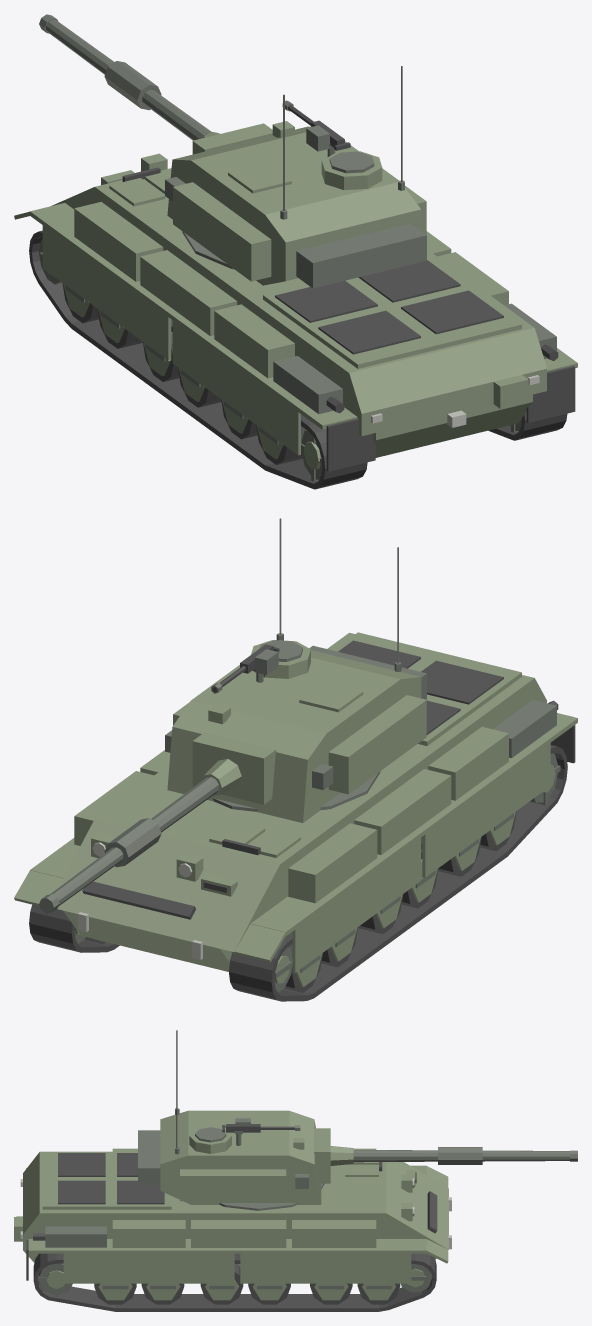
Rendered from tank.glb.
The picture shows the model from 3 angles, top to bottom: view 1: azimuth 30°, elevation 25°; view 2: azimuth 150°, elevation 25°; view 3: azimuth 270°, elevation 25°; orthographic projection. The views are drawn at different scales.
Parts seen in each view (by area): view 1: hull, turret, gun, mg_gun, wheel_L_5, wheel_L_2, wheel_L_1, wheel_L_3, wheel_L_6, wheel_L_4, wheel_L_0; view 2: hull, turret, gun, mg_gun, wheel_L_3, wheel_L_4, wheel_L_2, wheel_L_0, wheel_L_1, wheel_L_5; view 3: hull, turret, gun, wheel_R_3, wheel_R_0, wheel_R_4, wheel_R_5, wheel_R_2, wheel_R_1, wheel_R_6, mg_gun, wheel_R_7.
Boxes of the visible parts, bbox=[...] form: hull: bbox=[14, 153, 577, 489]; turret: bbox=[165, 66, 426, 288]; gun: bbox=[39, 14, 272, 154]; mg_gun: bbox=[282, 100, 350, 151]; wheel_L_5: bbox=[256, 425, 306, 464]; wheel_L_2: bbox=[143, 331, 179, 381]; wheel_L_1: bbox=[97, 309, 142, 348]; wheel_L_3: bbox=[178, 368, 221, 407]; wheel_L_6: bbox=[301, 430, 322, 481]; wheel_L_4: bbox=[221, 399, 257, 439]; wheel_L_0: bbox=[62, 283, 98, 323]; hull: bbox=[14, 632, 577, 1001]; turret: bbox=[165, 518, 426, 822]; gun: bbox=[39, 732, 276, 913]; mg_gun: bbox=[211, 644, 279, 693]; wheel_L_3: bbox=[401, 849, 438, 908]; wheel_L_4: bbox=[438, 837, 481, 876]; wheel_L_2: bbox=[358, 894, 403, 933]; wheel_L_0: bbox=[284, 944, 322, 992]; wheel_L_1: bbox=[321, 927, 357, 967]; wheel_L_5: bbox=[480, 811, 516, 851]; hull: bbox=[14, 1148, 451, 1311]; turret: bbox=[138, 1030, 321, 1204]; gun: bbox=[314, 1128, 577, 1183]; wheel_R_3: bbox=[200, 1264, 243, 1304]; wheel_R_0: bbox=[357, 1283, 400, 1304]; wheel_R_4: bbox=[141, 1283, 184, 1304]; wheel_R_5: bbox=[94, 1283, 136, 1304]; wheel_R_2: bbox=[248, 1283, 290, 1304]; wheel_R_1: bbox=[310, 1283, 352, 1304]; wheel_R_6: bbox=[37, 1263, 72, 1296]; mg_gun: bbox=[222, 1118, 300, 1132]; wheel_R_7: bbox=[401, 1264, 432, 1292].
Bounding box in the file's own units: 3.58 × 4.38 × 10.06.
